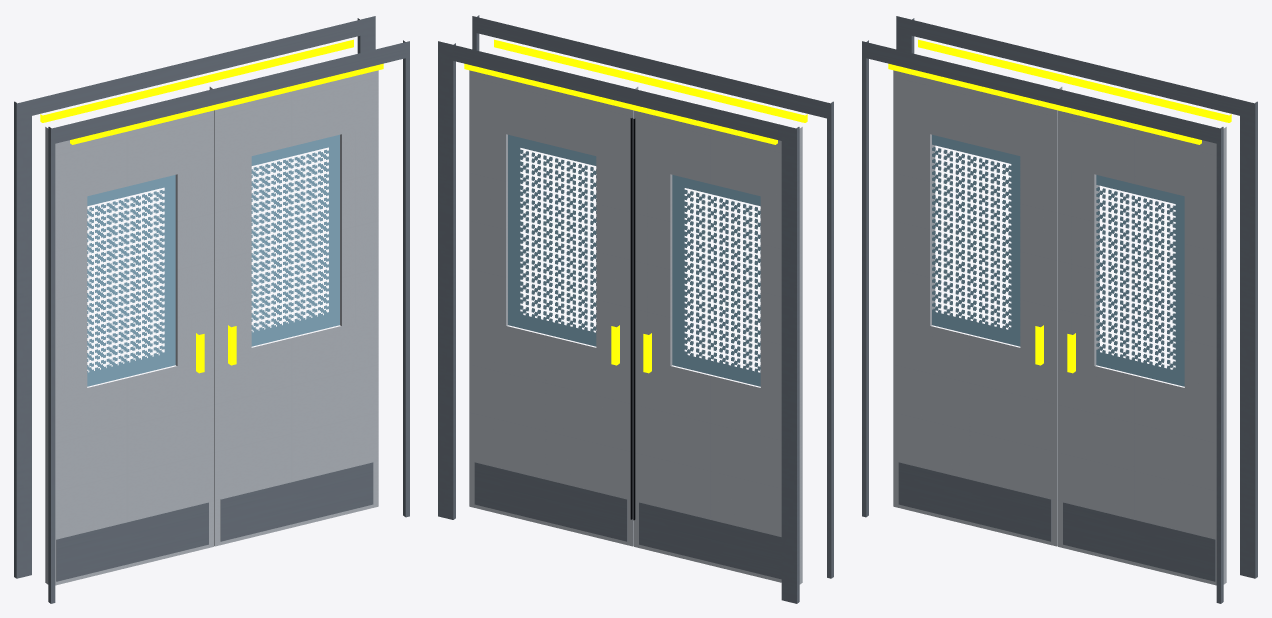
Rendered from tt_door_pair_18.glb.
The picture shows the model from 3 angles, left to right: view 1: azimuth 30°, elevation 25°; view 2: azimuth 150°, elevation 25°; view 3: azimuth 330°, elevation 25°; orthographic projection.
Parts seen in each view (by area): view 1: Leaf_R_Panel, Leaf_L_Panel, Door_Casing, Leaf_R_Vision_Scissor, Leaf_L_Vision_Scissor, Leaf_R_Kick_Plate, Leaf_L_Kick_Plate, Head_Court_Line; view 2: Leaf_R_Panel, Leaf_L_Panel, Door_Casing, Leaf_L_Vision_Scissor, Leaf_R_Vision_Scissor, Leaf_R_Kick_Plate, Leaf_L_Kick_Plate, Head_Court_Line, Leaf_L_BrushSeal, Leaf_R_BrushSeal; view 3: Leaf_L_Panel, Leaf_R_Panel, Door_Casing, Leaf_L_Vision_Scissor, Leaf_R_Vision_Scissor, Leaf_L_Kick_Plate, Leaf_R_Kick_Plate, Head_Court_Line.
Boxes of the visible parts, x1=… form: Leaf_R_Panel: x1=209, y1=70, x2=378, y2=546; Leaf_L_Panel: x1=45, y1=110, x2=214, y2=585; Door_Casing: x1=14, y1=16, x2=409, y2=603; Leaf_R_Vision_Scissor: x1=251, y1=134, x2=339, y2=346; Leaf_L_Vision_Scissor: x1=87, y1=175, x2=175, y2=386; Leaf_R_Kick_Plate: x1=220, y1=462, x2=373, y2=541; Leaf_L_Kick_Plate: x1=56, y1=502, x2=208, y2=581; Head_Court_Line: x1=40, y1=39, x2=383, y2=144; Leaf_R_Panel: x1=469, y1=70, x2=638, y2=546; Leaf_L_Panel: x1=633, y1=110, x2=802, y2=584; Door_Casing: x1=438, y1=15, x2=833, y2=603; Leaf_L_Vision_Scissor: x1=672, y1=175, x2=760, y2=386; Leaf_R_Vision_Scissor: x1=508, y1=134, x2=596, y2=346; Leaf_R_Kick_Plate: x1=474, y1=462, x2=627, y2=541; Leaf_L_Kick_Plate: x1=639, y1=502, x2=781, y2=579; Head_Court_Line: x1=464, y1=39, x2=807, y2=144; Leaf_L_BrushSeal: x1=633, y1=118, x2=635, y2=520; Leaf_R_BrushSeal: x1=630, y1=118, x2=632, y2=519; Leaf_L_Panel: x1=893, y1=70, x2=1062, y2=546; Leaf_R_Panel: x1=1057, y1=110, x2=1226, y2=585; Door_Casing: x1=862, y1=16, x2=1257, y2=603; Leaf_L_Vision_Scissor: x1=932, y1=134, x2=1020, y2=346; Leaf_R_Vision_Scissor: x1=1096, y1=175, x2=1184, y2=386; Leaf_L_Kick_Plate: x1=898, y1=462, x2=1051, y2=541; Leaf_R_Kick_Plate: x1=1063, y1=502, x2=1215, y2=581; Head_Court_Line: x1=888, y1=39, x2=1231, y2=144.
Size of what is drawn, in the model's own units: 1.96 by 2.48 by 0.35.
Materials: 5 (4 with a texture image).
